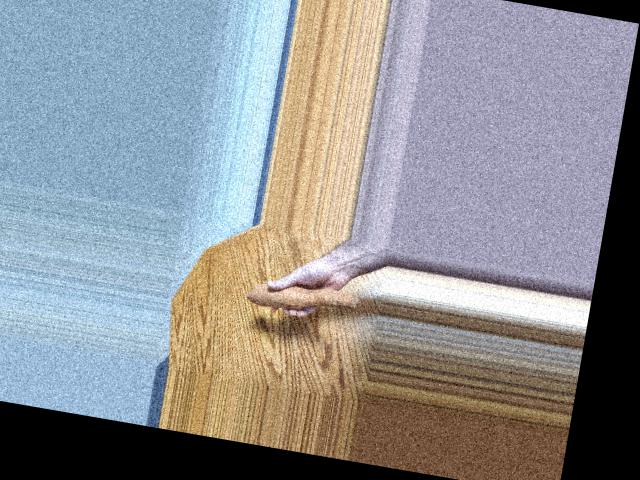sweet_potato: (243, 272, 363, 325)
